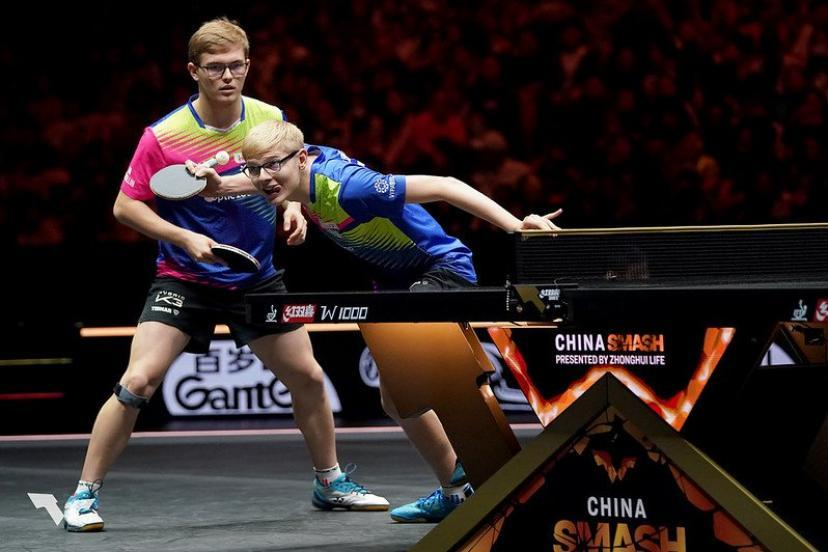ball_pingpong: (215, 149, 229, 164)
